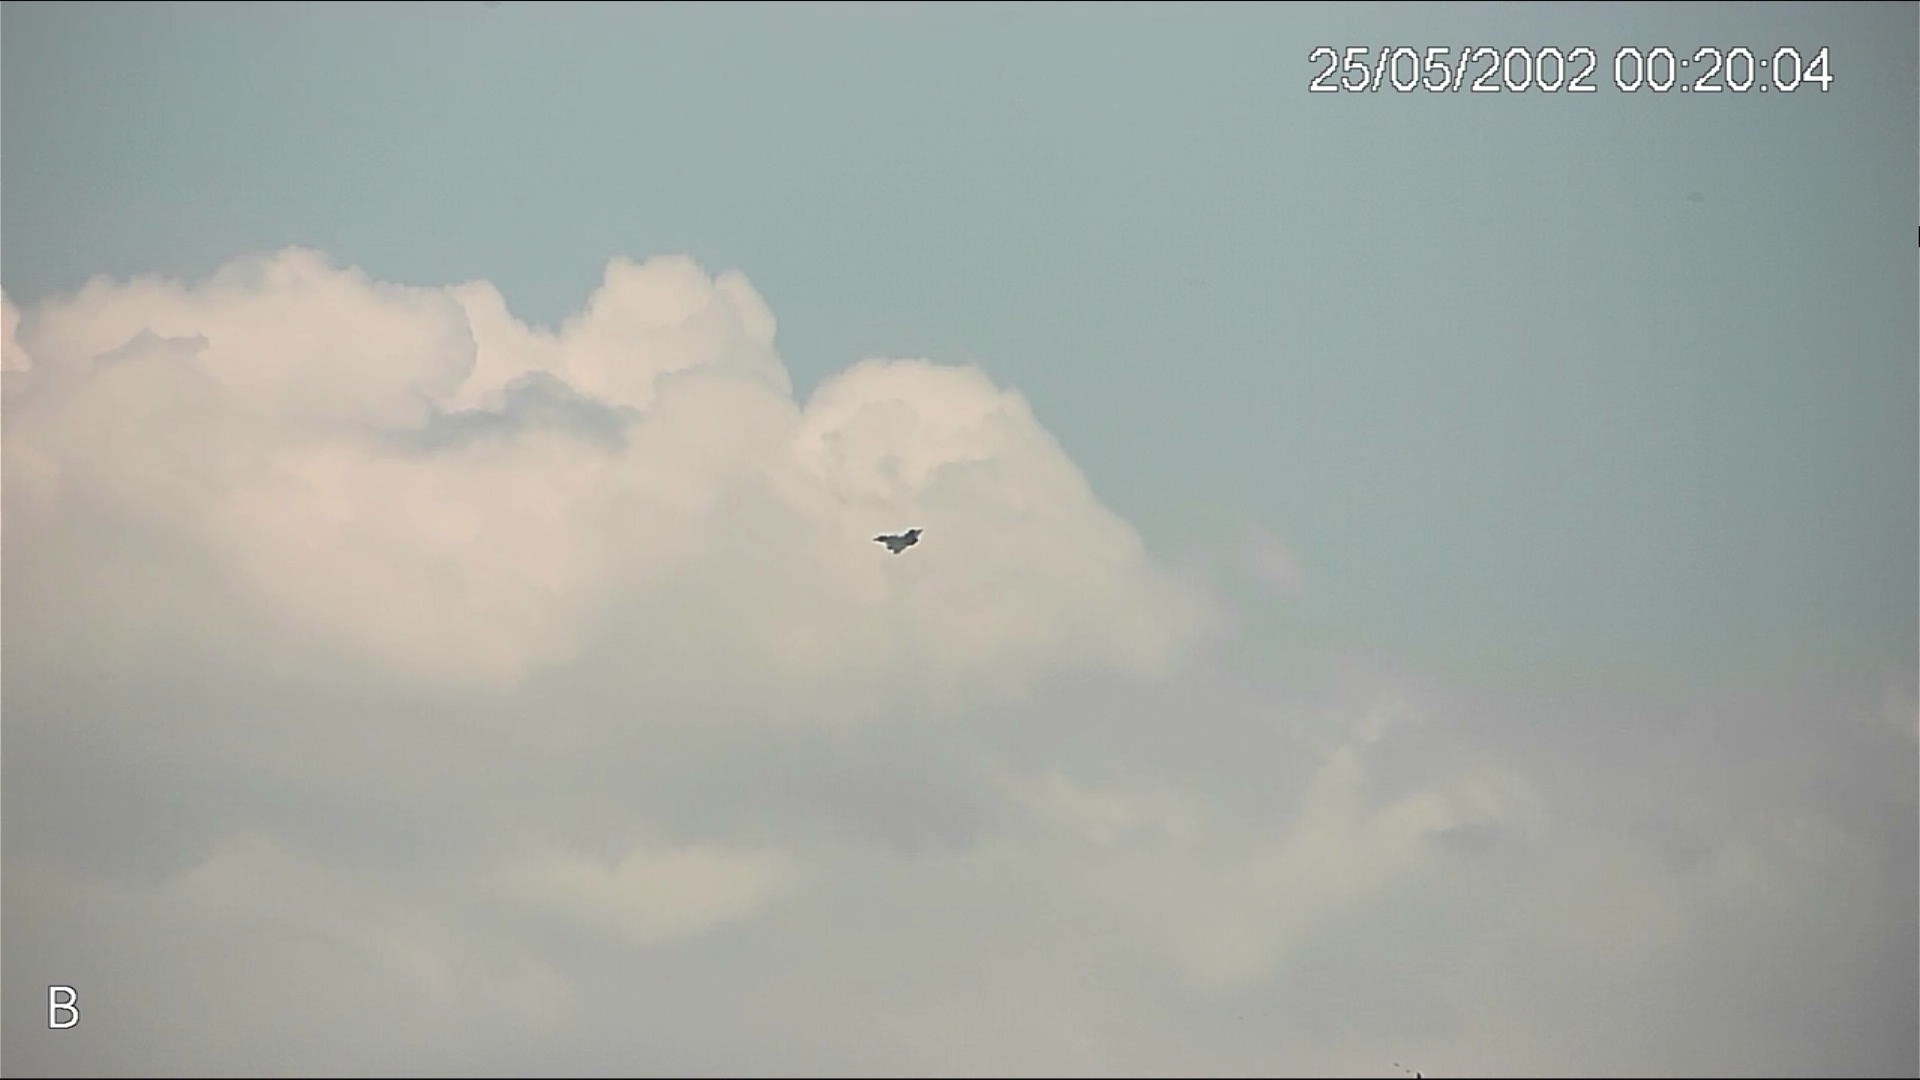SU_30: (872, 526, 928, 556)
